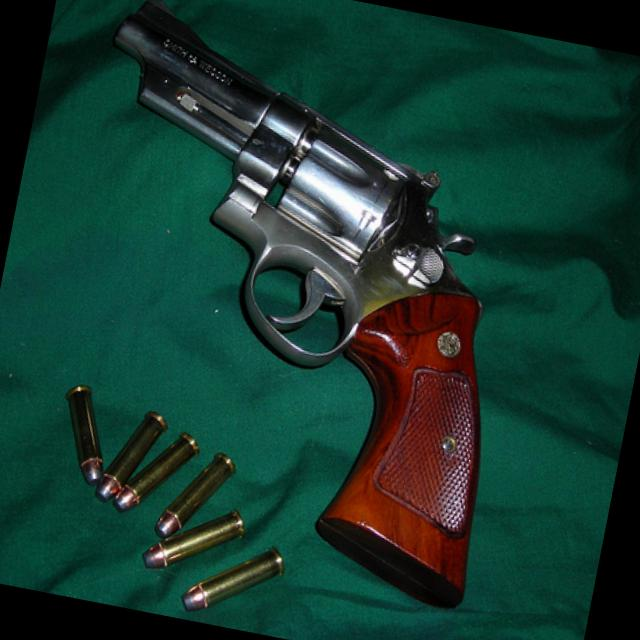handgun: (19, 0, 564, 609)
